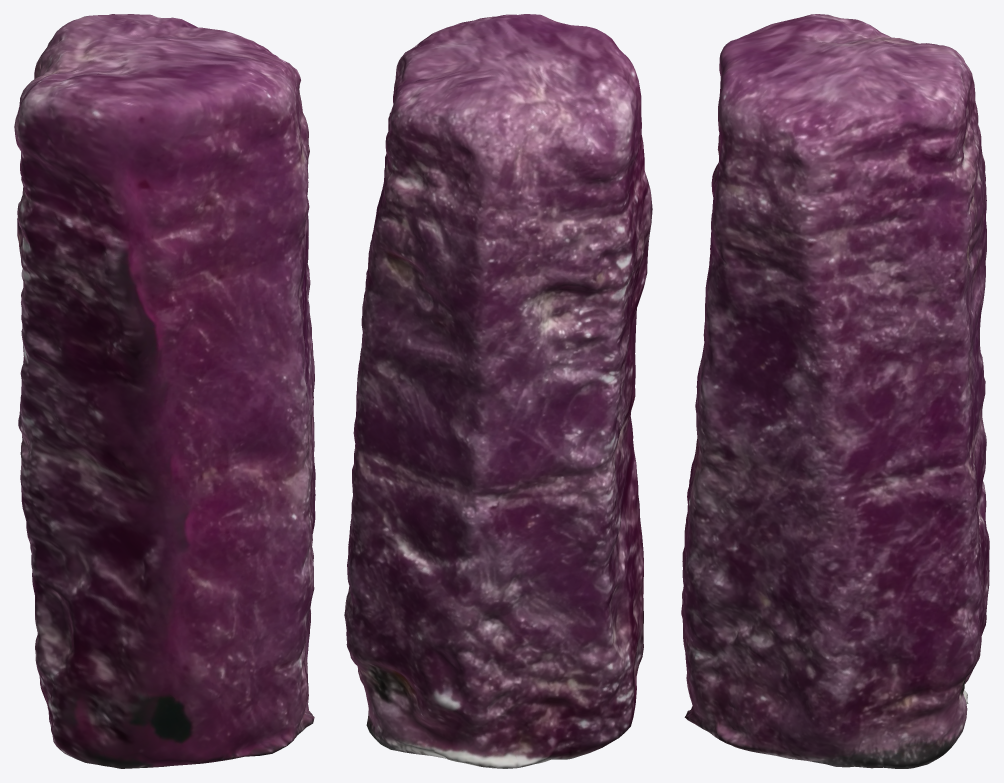
The model's file is ruby.glb.
3 renders of one model, left to right at view 1: azimuth 30°, elevation 25°; view 2: azimuth 150°, elevation 25°; view 3: azimuth 270°, elevation 25°, orthographic. The views are drawn at different scales.
Parts seen in each view (by area): view 1: Mesh; view 2: Mesh; view 3: Mesh.
Boxes of the visible parts, bbox=[...] form: Mesh: bbox=[14, 14, 315, 768]; Mesh: bbox=[344, 14, 652, 768]; Mesh: bbox=[681, 14, 989, 768].
Bounding box in the file's own units: 0.0443 × 0.1047 × 0.0433.
Materials: 1 (1 with a texture image).
